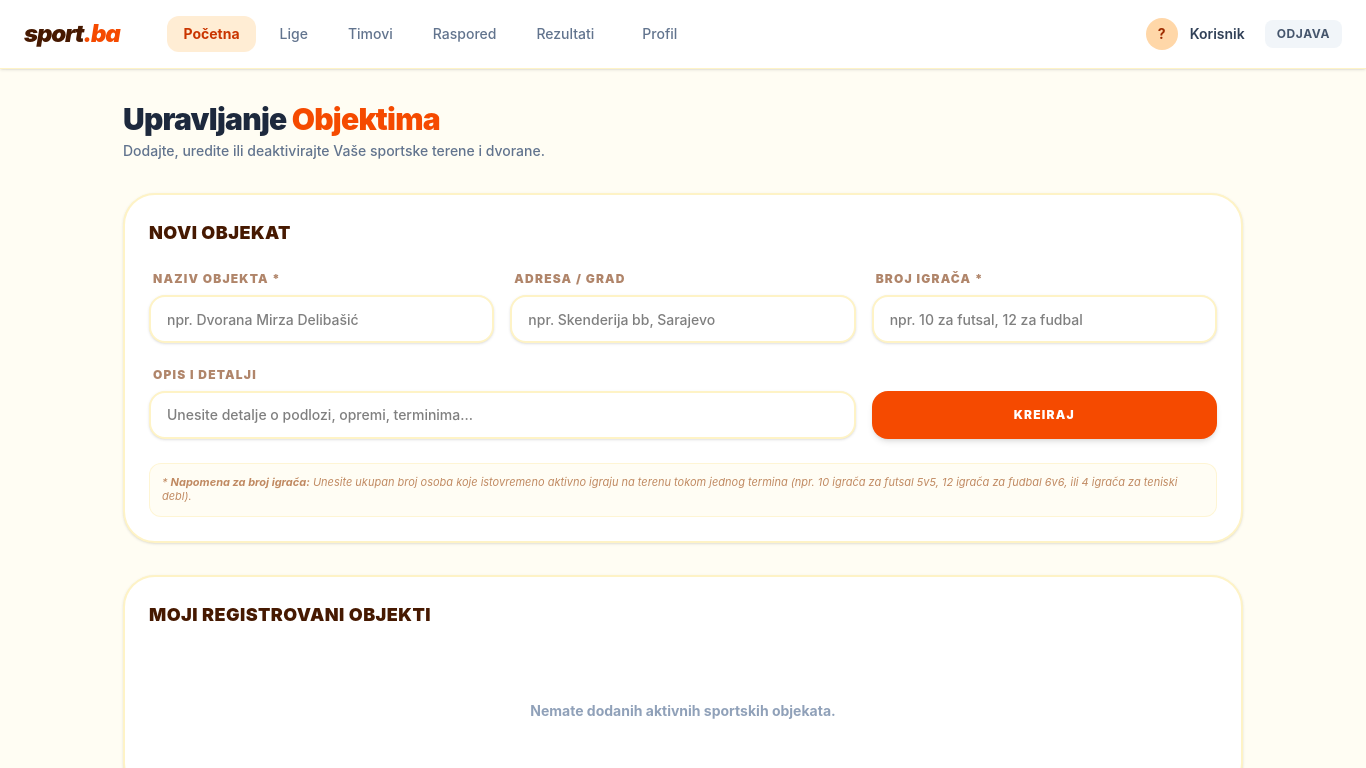
Test case: Validacija forme › prikazuje grešku ako je broj igrača izvan raspona
Check: the text "Nemate dodanih aktivnih sportskih objekata." is shown, box [530, 702, 836, 718]
Step 1. Type "Test Teren" into the field with placeholder "npr. Dvorana Mirza Delibašić" → (322, 319), box [149, 295, 494, 343]
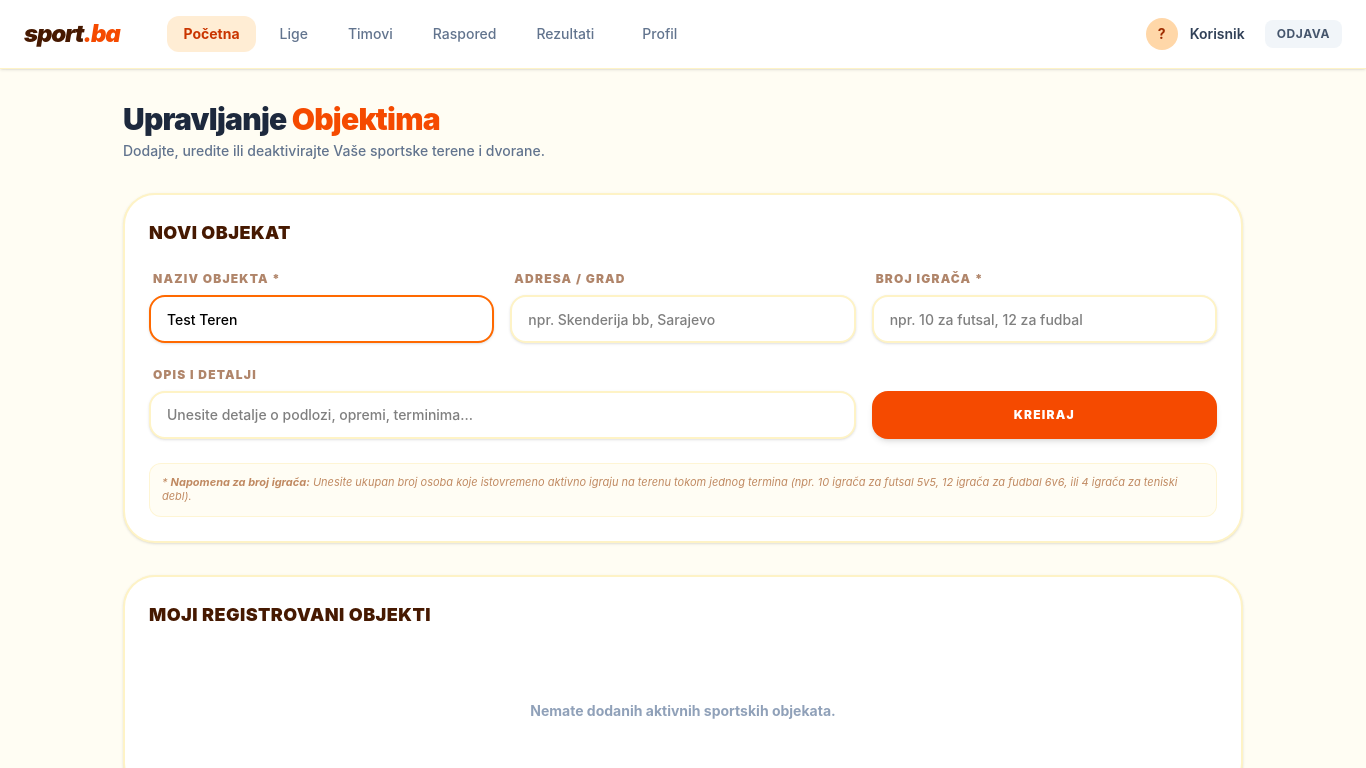
Step 2. Type "50" into the number field → (1044, 319), box [872, 295, 1217, 343]
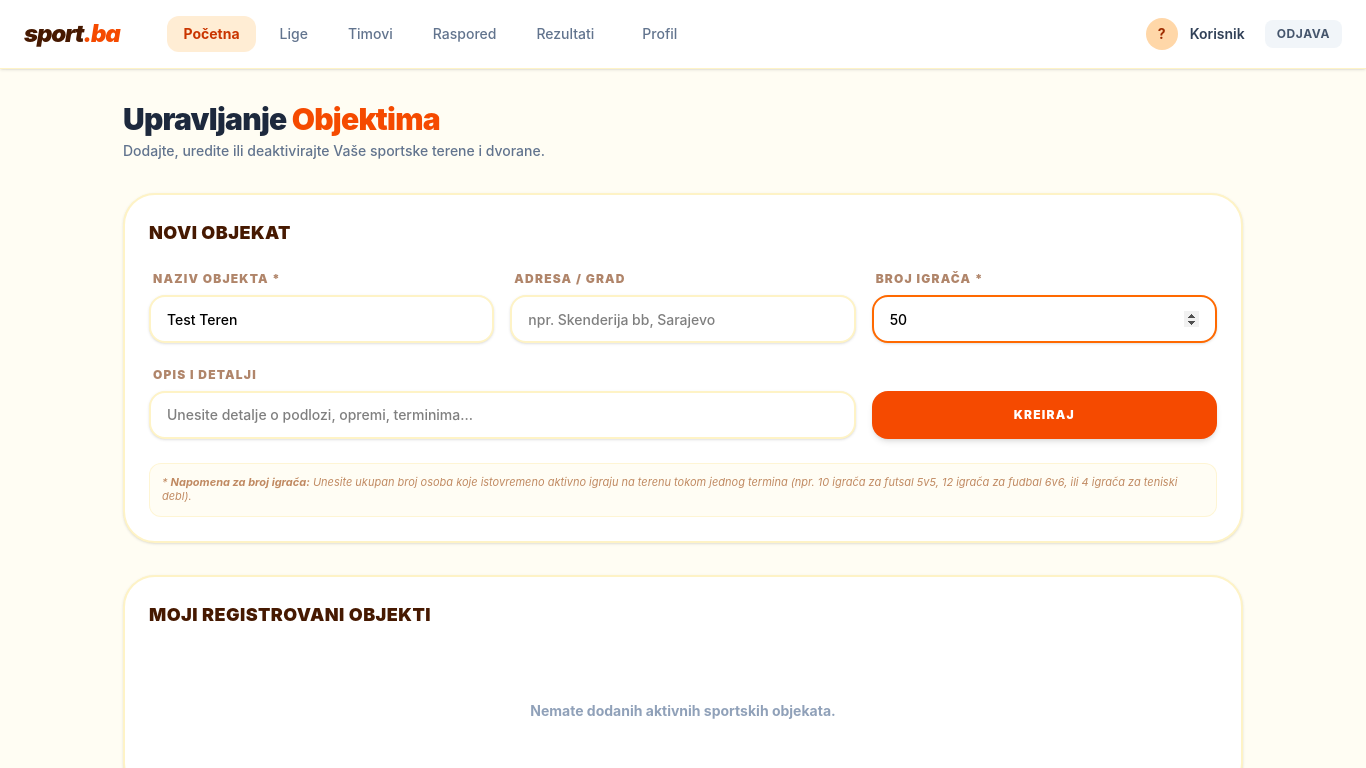
Step 3. Click the button "Kreiraj" → (1044, 415), box [872, 391, 1217, 439]
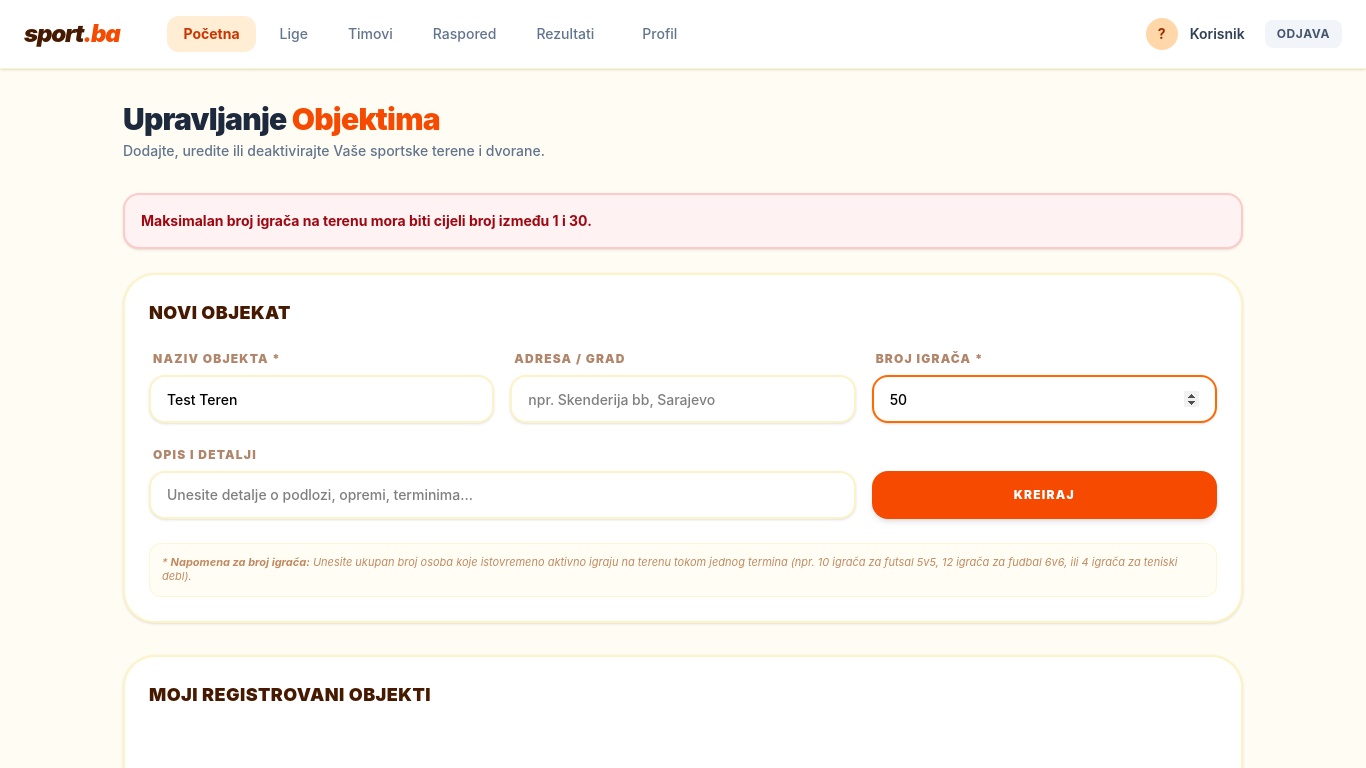
Check: the text "između 1 i 30" is shown, box [141, 212, 592, 229]
